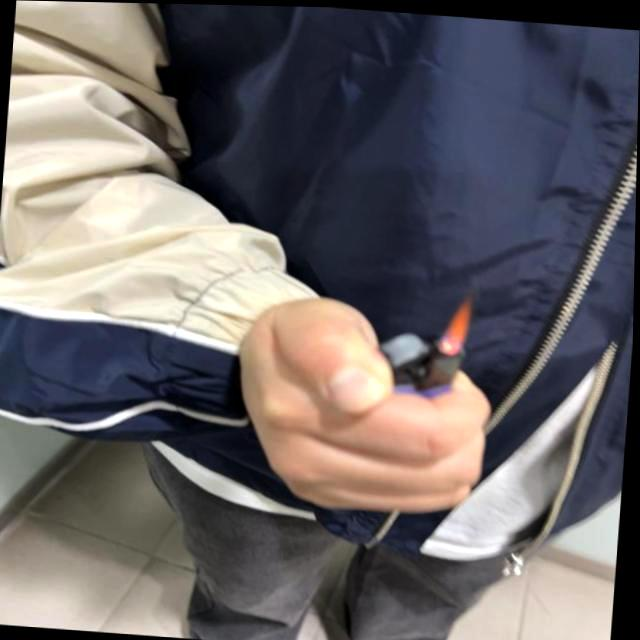fire: (438, 286, 478, 354)
